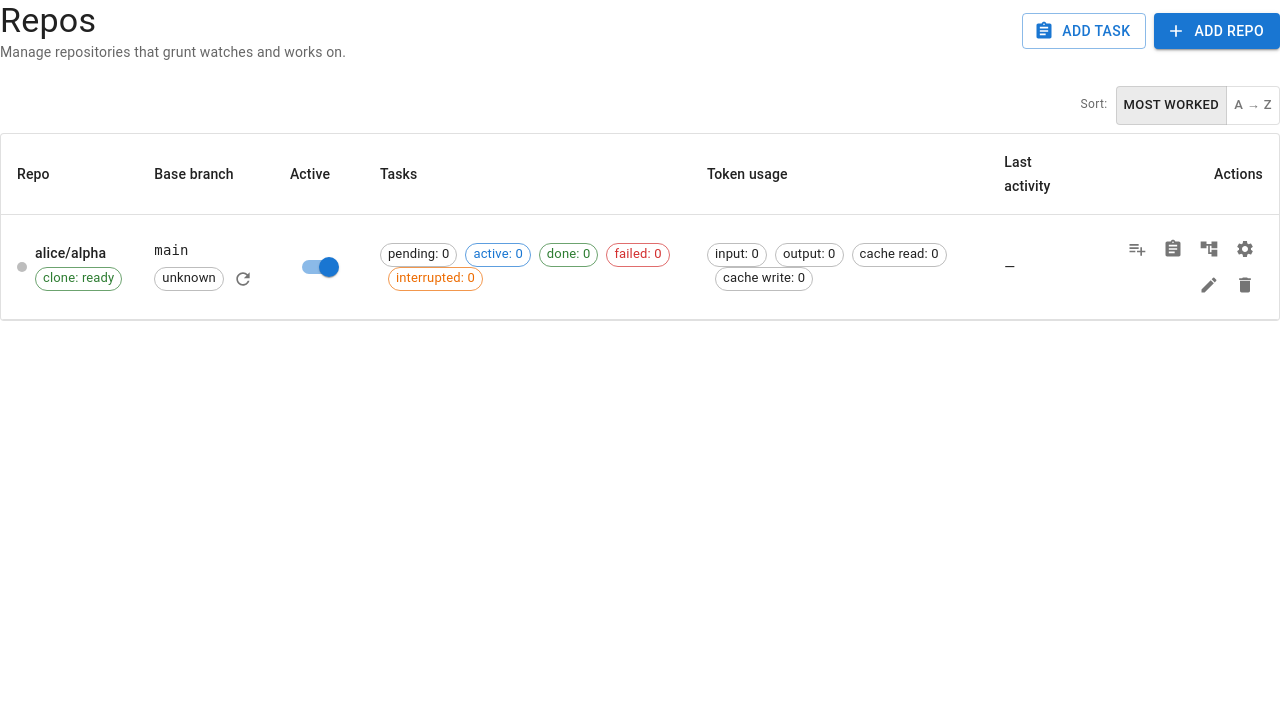
Scenario: ReposPage › deletes a repo via the Delete dialog
Click the button named "delete alice/alpha". click: coordinates (1245, 285)
box: x1=1227 y1=267 x2=1263 y2=303
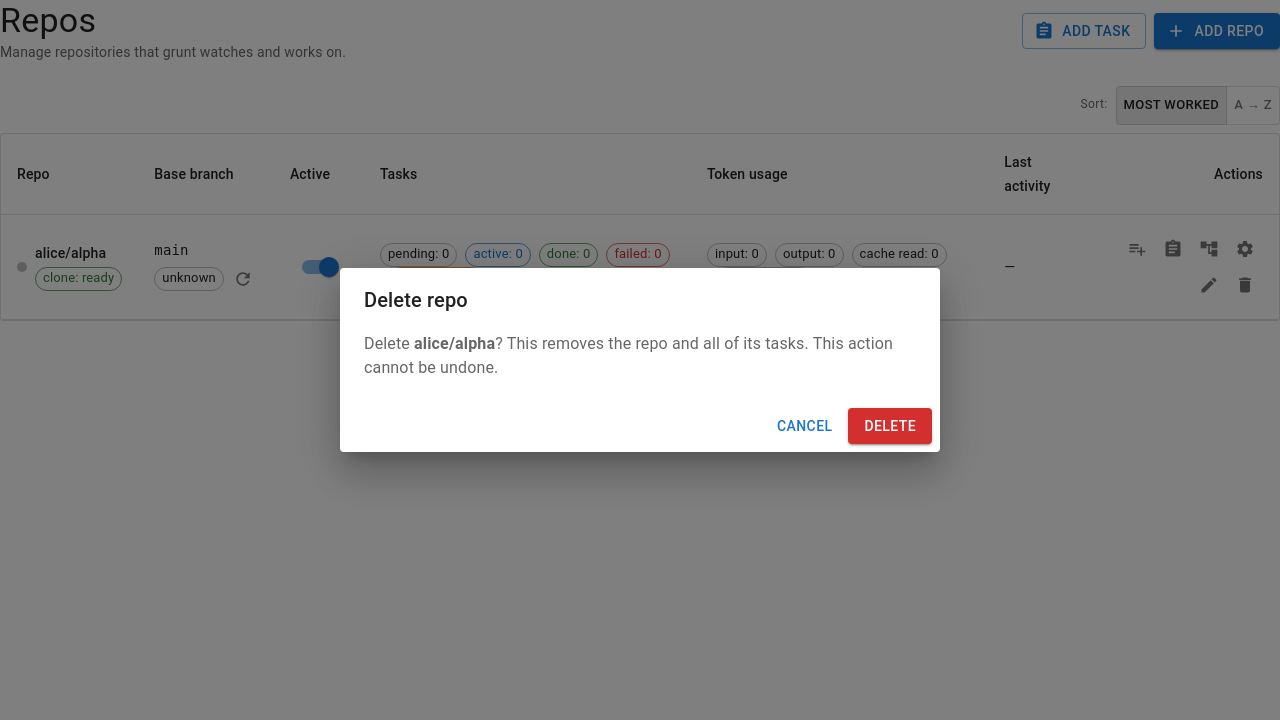
Click the button "Delete". click: coordinates (890, 426)
box: x1=848 y1=408 x2=932 y2=444
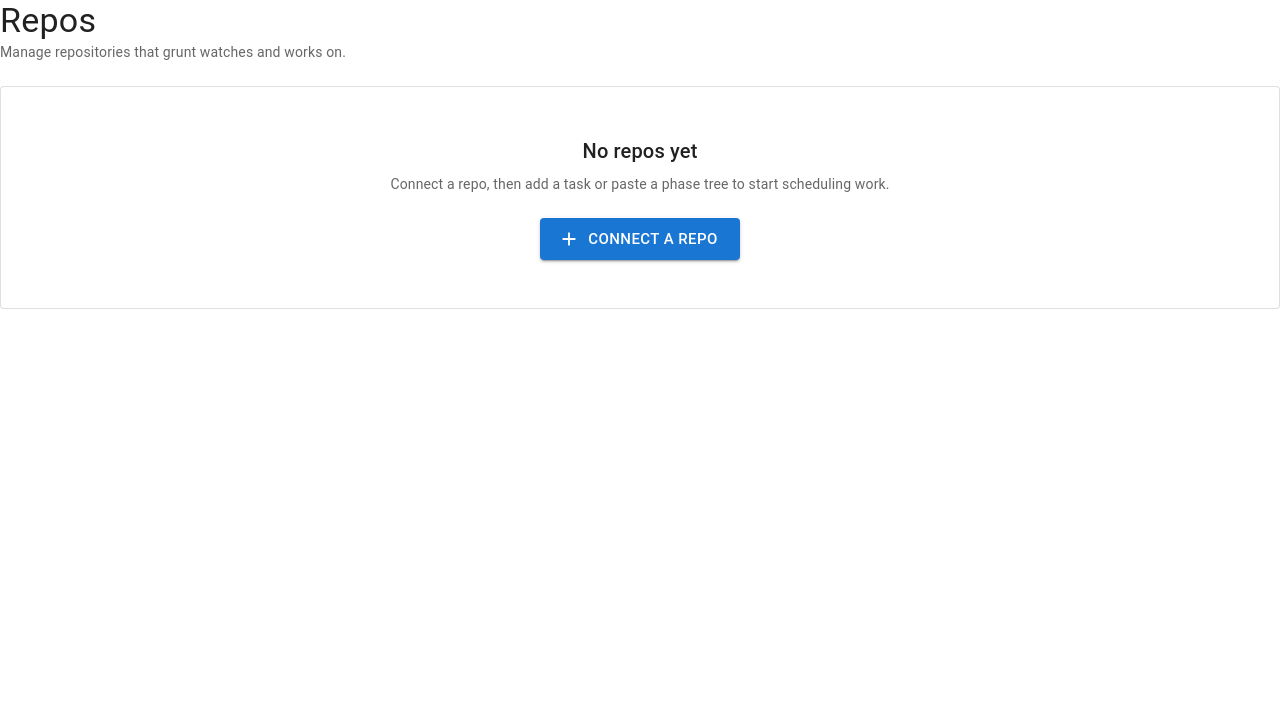
Expected: the text "alice/alpha" is gone
